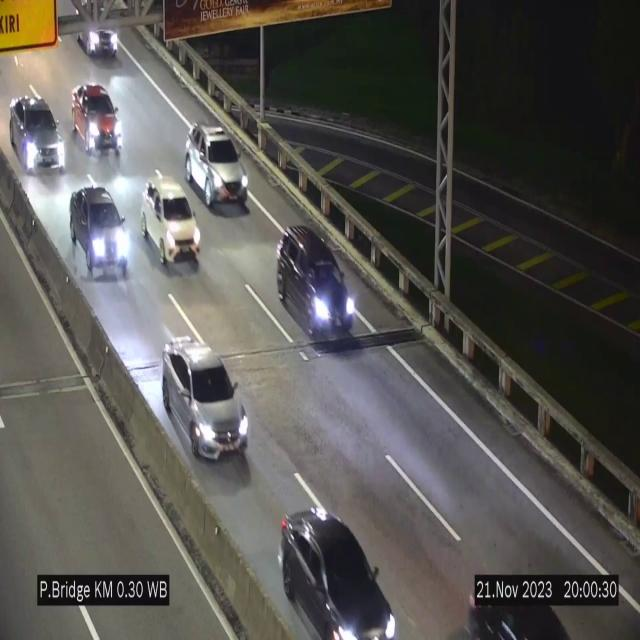Car: (281, 507, 395, 640), (163, 335, 248, 460), (277, 226, 355, 341), (66, 183, 132, 285), (141, 178, 200, 272), (185, 124, 248, 212), (70, 83, 126, 161), (10, 96, 66, 172)
